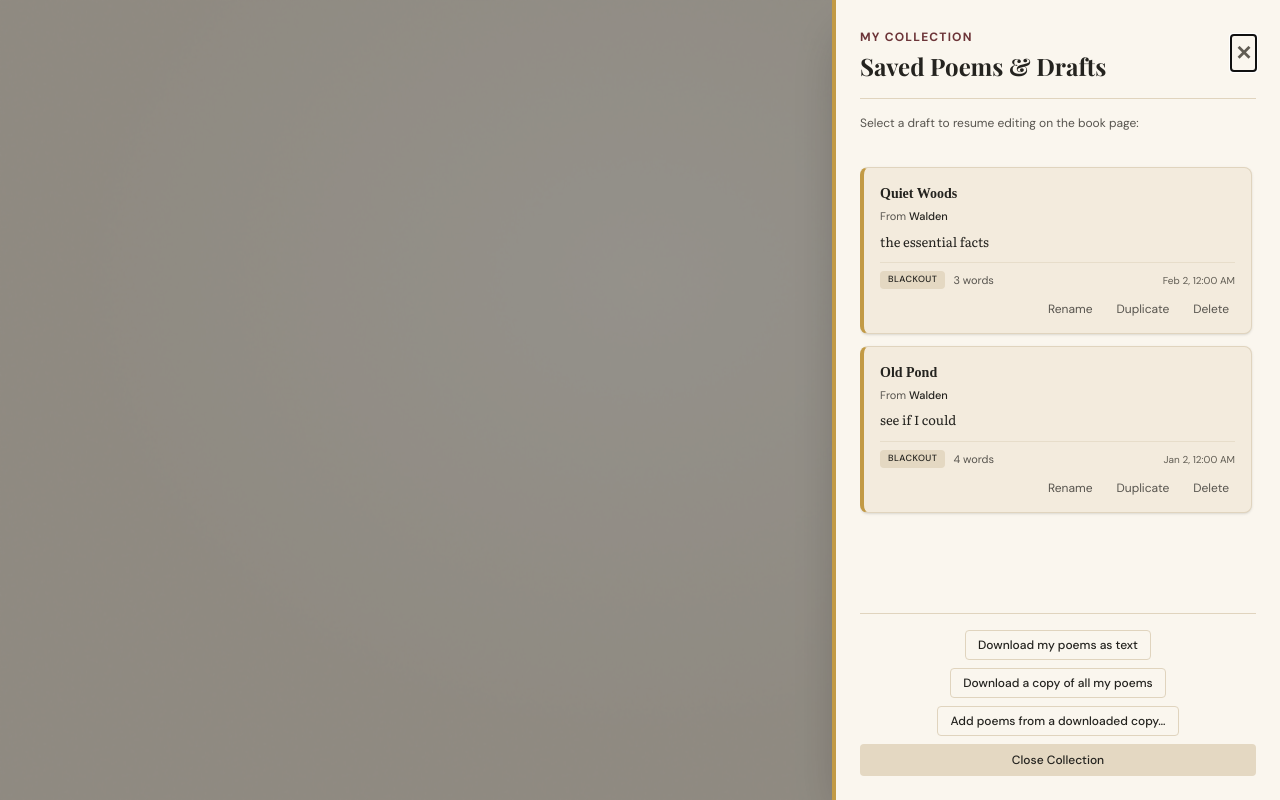
Test: renaming › opens a field with the current title, selected and focused
This screenshot has width=1280, height=800.
Click the 2nd button "Rename" at (1070, 488), box [1038,476,1102,500]
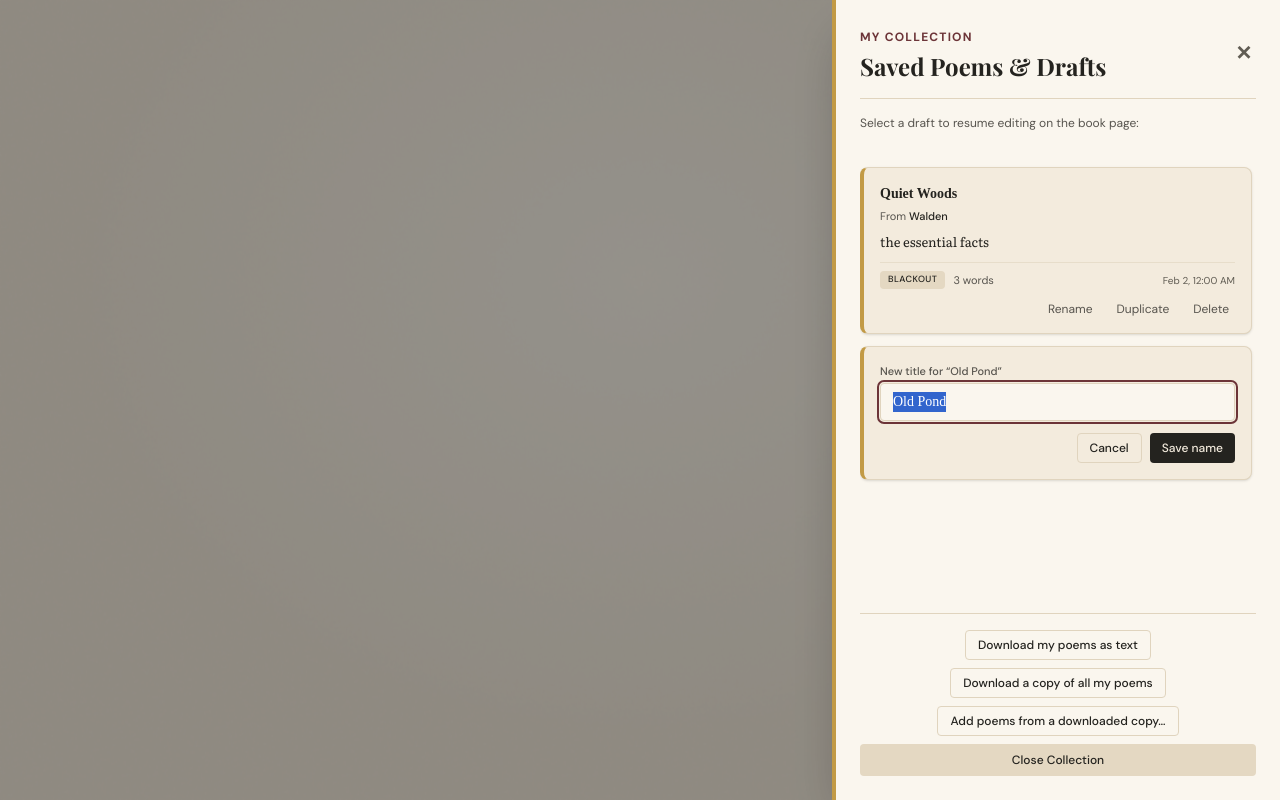
Expected: the field labelled "New title for “Old Pond”" holds "Old Pond", [880,383,1235,421]
